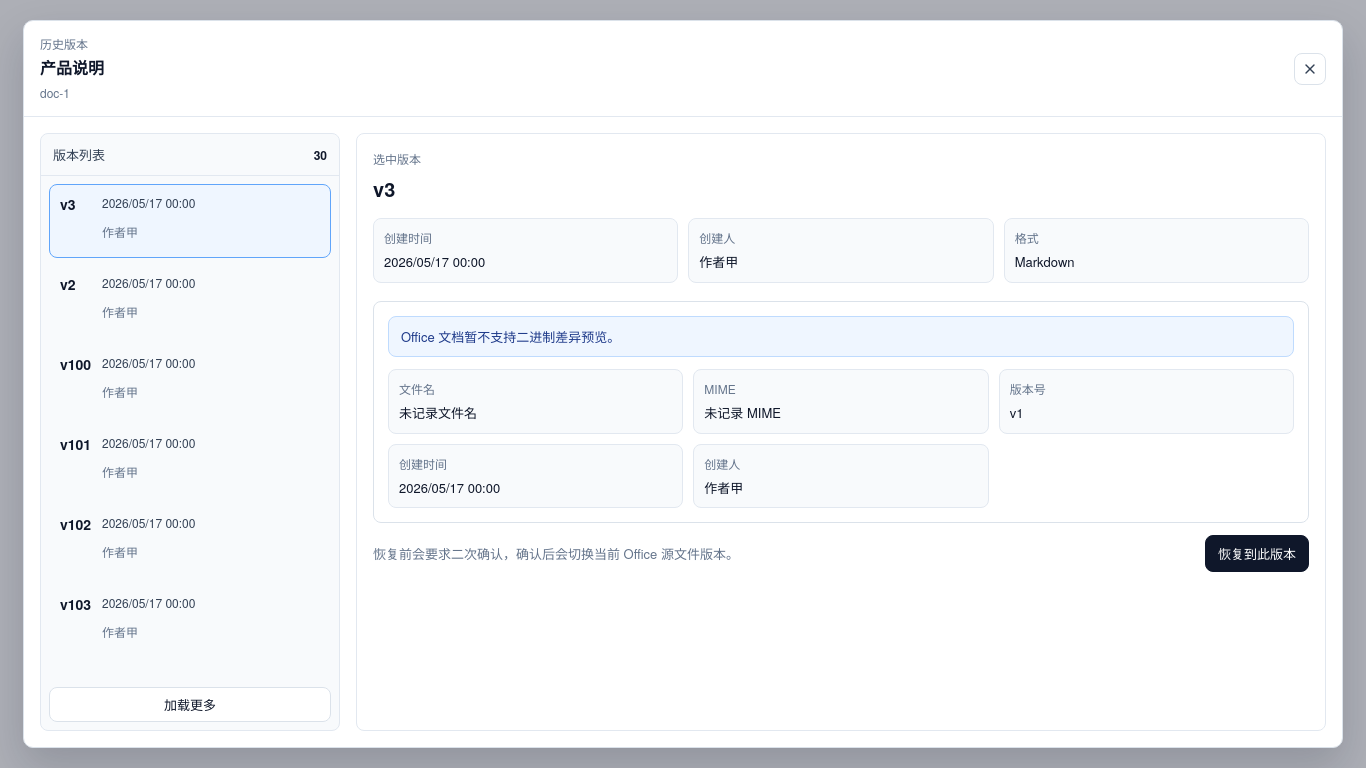
DocumentRevisionHistoryDialog › loads next page without duplicated revision items
Expected: the button with aria-label "版本 3" is shown, [49, 184, 331, 258]
Click the button "加载更多".
click(190, 704)  # box [49, 687, 331, 722]
(page scrolled)
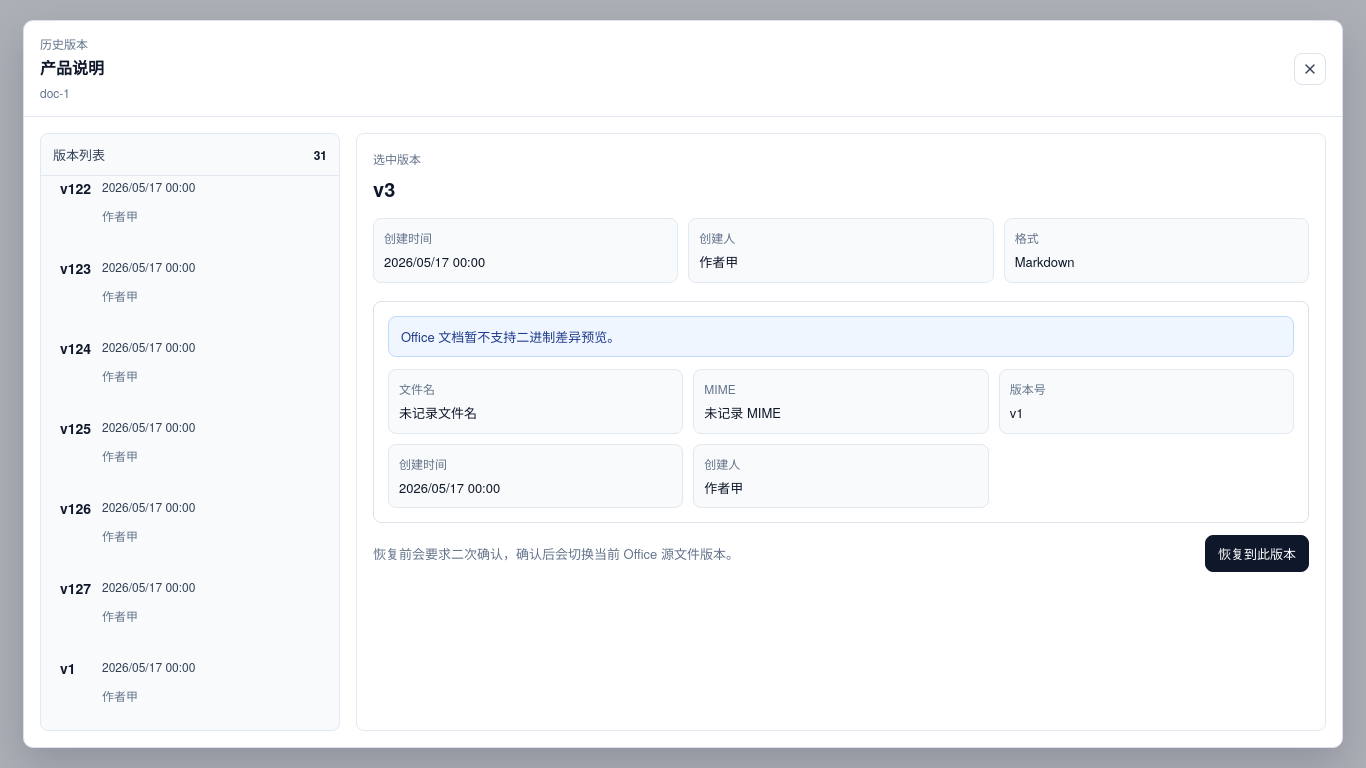
Expected: the button with aria-label "版本 1，作者甲" is shown, [49, 648, 331, 722]
